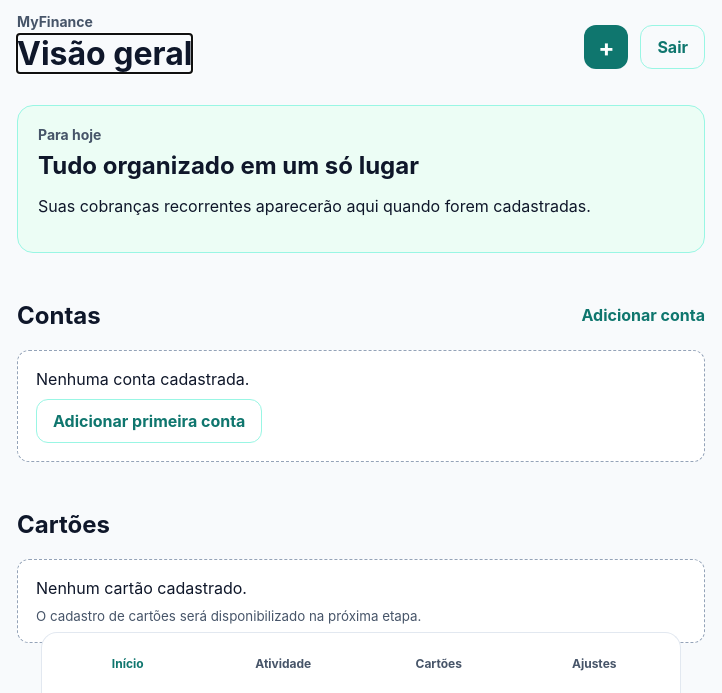
Test case: Finance home data › does not offer rename or archive for the system invoice-payment category
Click the button "Ajustes". click: (594, 663)
box: [516,641,672,685]
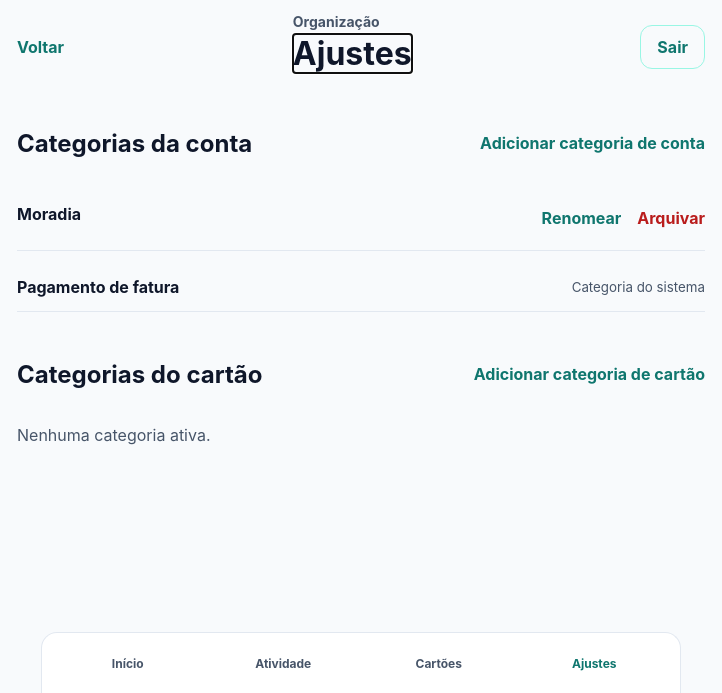
Expected: the text "Pagamento de fatura" is shown, [17,277,179,297]
Expected: the button with aria-label "Renomear Moradia" is shown, [542,200,621,236]
